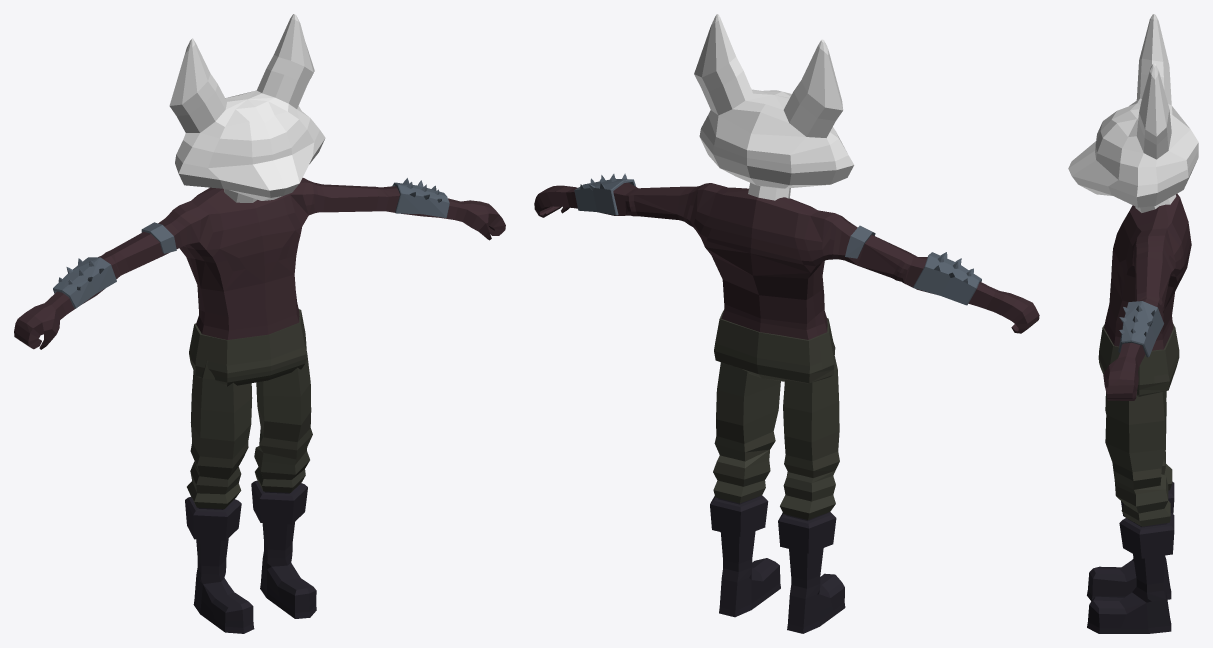
File: Wolf_character.fbx
The picture shows the model from 3 angles, left to right: view 1: azimuth 30°, elevation 25°; view 2: azimuth 150°, elevation 25°; view 3: azimuth 270°, elevation 25°; orthographic projection. The views are drawn at different scales.
Parts seen in each view (by area): view 1: Cube.001, штаны, Sphere.001, Cube.008; view 2: Cube.001, штаны, Sphere.001, Cube.008; view 3: Cube.001, Sphere.001, штаны, Cube.008.
Boxes of the visible parts, <box> form: Cube.001: <box>14,178,505,633</box>; штаны: <box>187,309,312,509</box>; Sphere.001: <box>169,14,325,202</box>; Cube.008: <box>53,178,449,308</box>; Cube.001: <box>534,182,1039,633</box>; штаны: <box>713,309,839,519</box>; Sphere.001: <box>694,14,854,200</box>; Cube.008: <box>574,173,981,305</box>; Cube.001: <box>1087,193,1191,633</box>; Sphere.001: <box>1068,14,1198,212</box>; штаны: <box>1098,323,1179,526</box>; Cube.008: <box>1118,301,1163,357</box>.
Bounding box in the file's own units: 198 × 227 × 46.84.
